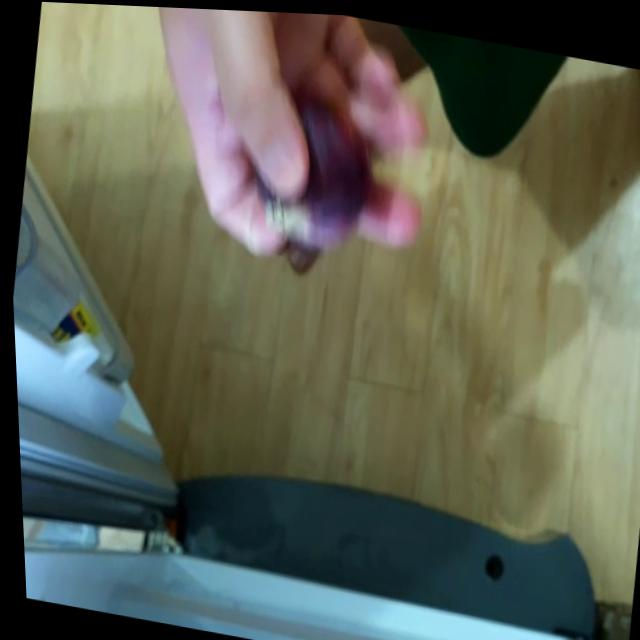onion: (236, 92, 380, 280)
